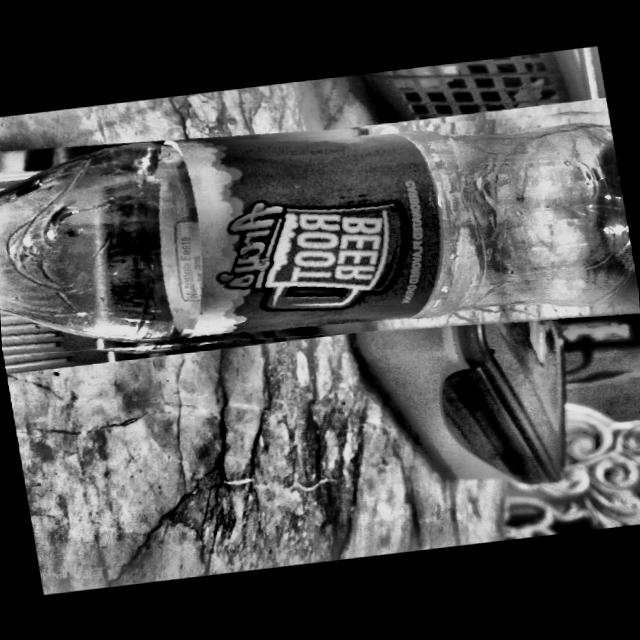Plastic-Bottle: (0, 86, 640, 384)
